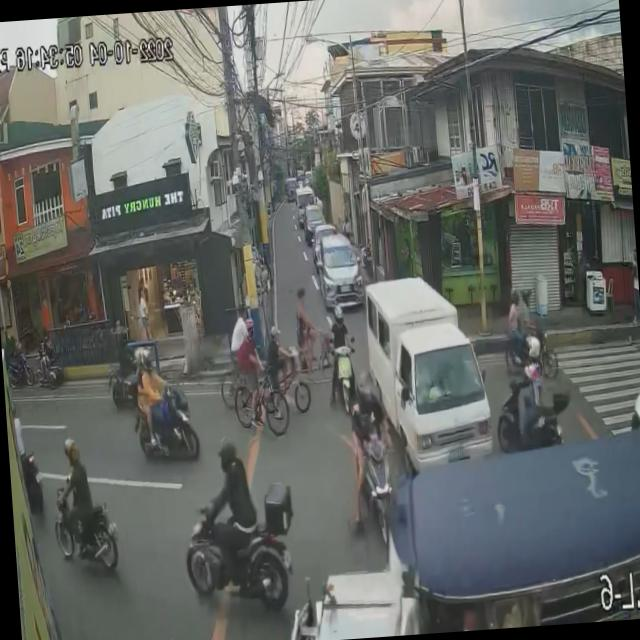full: (216, 434, 239, 474), (526, 334, 542, 358), (334, 304, 346, 328)
half: (522, 286, 532, 306), (510, 286, 520, 302)
